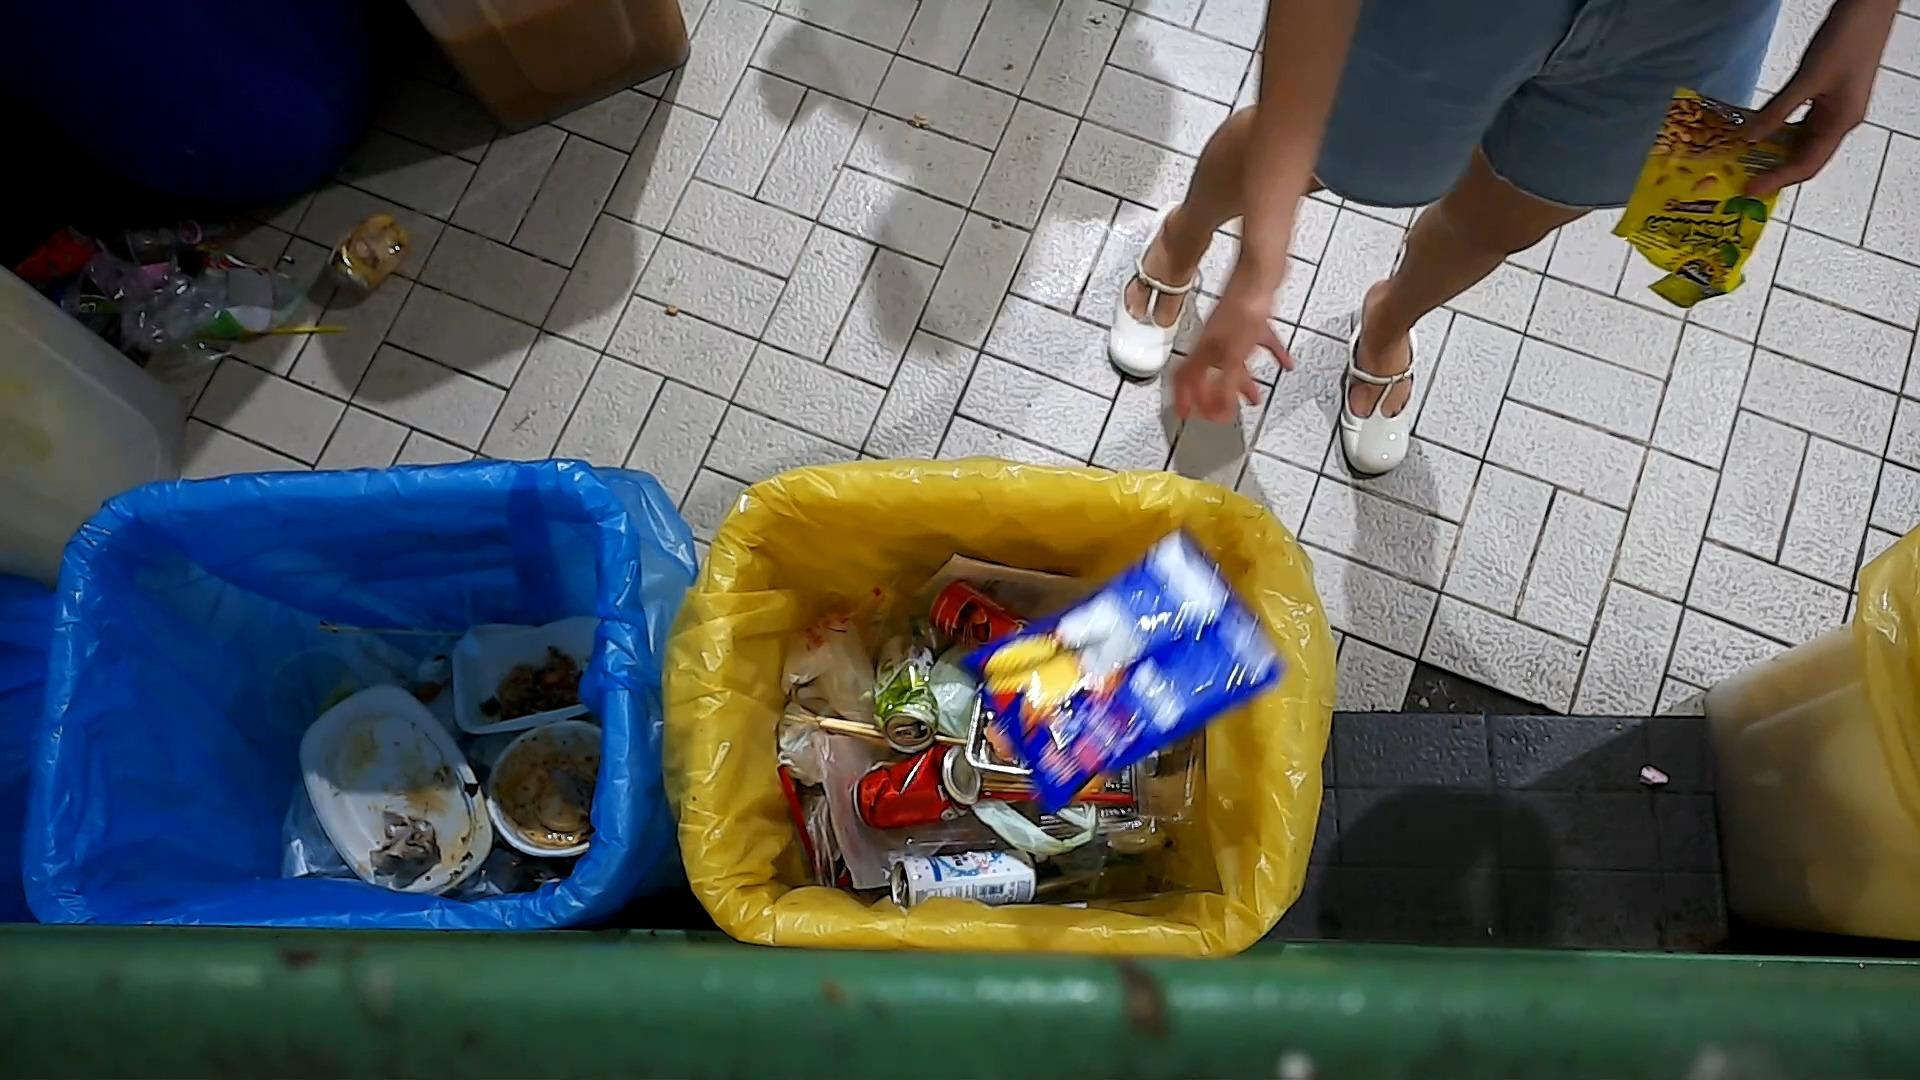can: (852, 744, 984, 825), (889, 848, 1034, 909), (878, 629, 942, 750)
dirty food container: (301, 678, 487, 897), (481, 721, 608, 870), (447, 615, 597, 736)
snack packaging: (968, 529, 1284, 812), (1590, 86, 1782, 310)
straw: (777, 764, 827, 878), (981, 791, 1146, 806)
